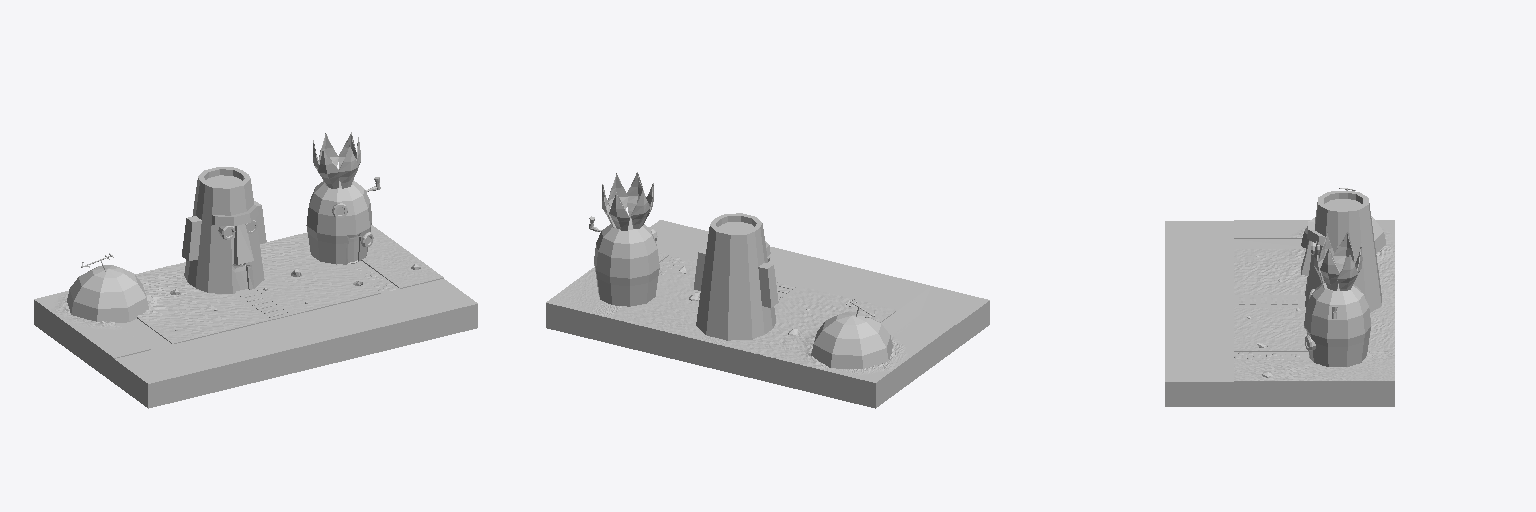
Rendered from house.obj.
The picture shows the model from 3 angles: view 1: azimuth 30°, elevation 25°; view 2: azimuth 150°, elevation 25°; view 3: azimuth 270°, elevation 25°; orthographic projection.
Visible parts, largest first — view 1: Object_12, Object_11, Object_14, Object_4, Object_19, Object_8; view 2: Object_12, Object_11, Object_14, Object_4, Object_19, Object_8; view 3: Object_12, Object_11, Object_14, Object_4, Object_8.
Boxes of the visible parts, box(x1,y1,x2,y2) form: Object_12: box(34, 261, 477, 408); Object_11: box(34, 225, 443, 358); Object_14: box(182, 167, 266, 293); Object_4: box(306, 180, 371, 264); Object_19: box(67, 265, 148, 322); Object_8: box(313, 132, 360, 188); Object_12: box(546, 220, 989, 408); Object_11: box(546, 252, 955, 384); Object_14: box(694, 213, 778, 340); Object_4: box(594, 218, 659, 306); Object_19: box(811, 312, 892, 368); Object_8: box(602, 172, 653, 230); Object_12: box(1165, 221, 1394, 406); Object_11: box(1234, 220, 1394, 382); Object_14: box(1301, 191, 1381, 312); Object_4: box(1304, 282, 1370, 366); Object_8: box(1314, 232, 1362, 290).
Bounding box in the file's own units: 7 × 2.85 × 4.21.